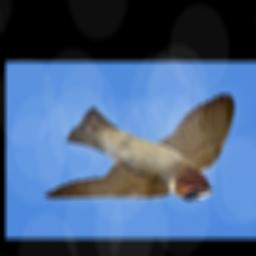Swallow: (41, 92, 238, 201)
